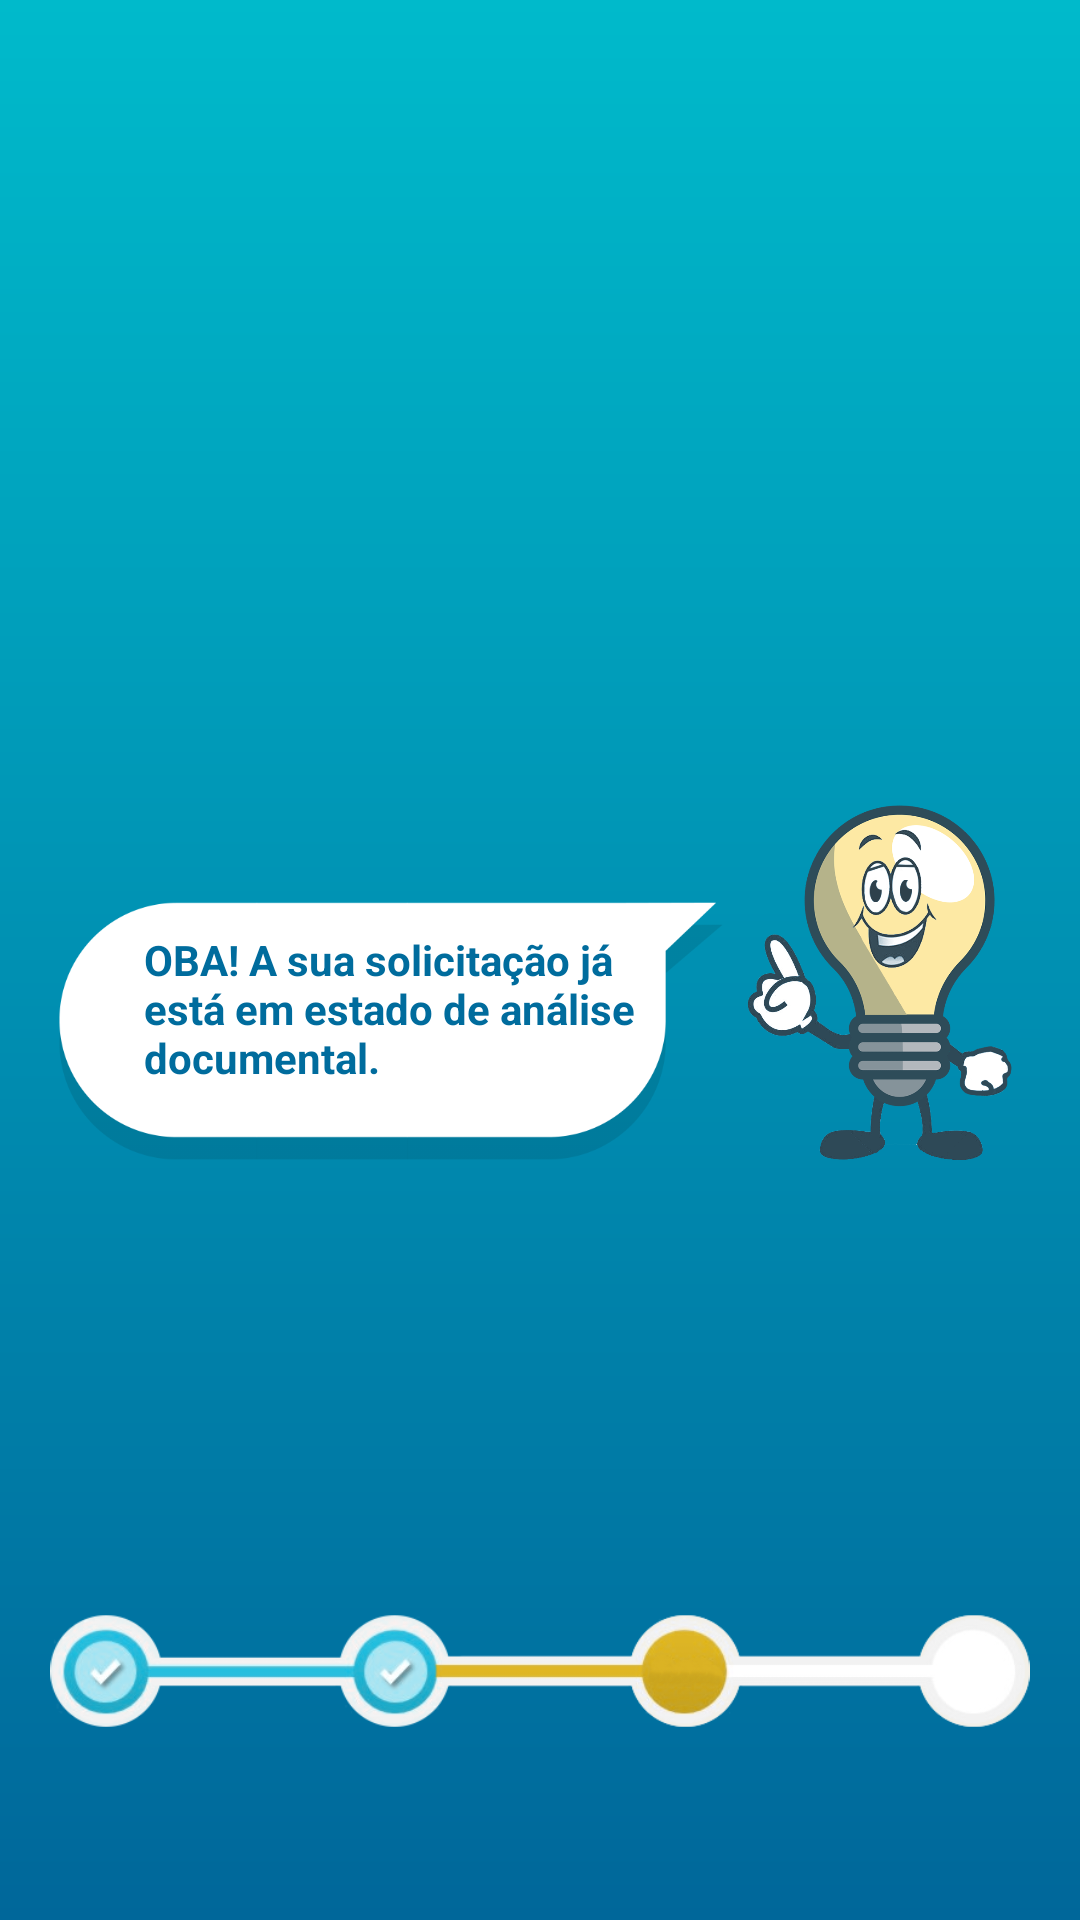

Where icons sit on this 1080px×1920px app screen, as (x1, y1, x2, y2):
mascote informativo: (748, 805, 1012, 1160)
